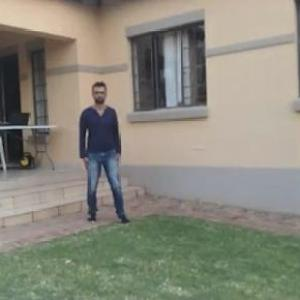follow: (79, 73, 124, 234)
